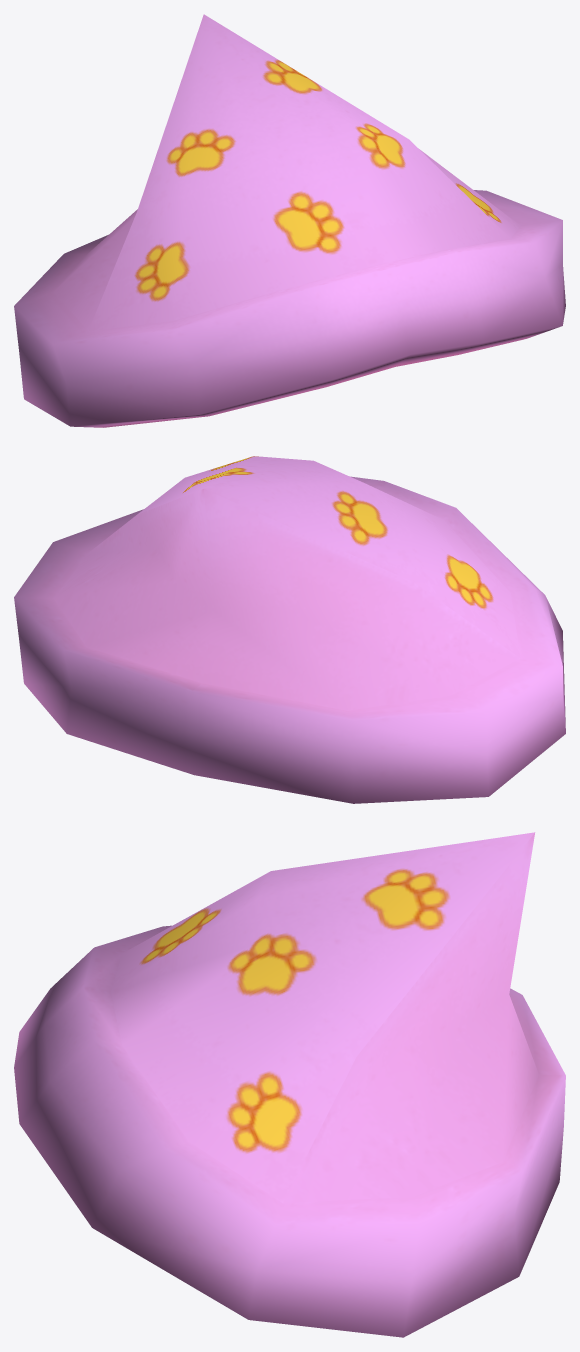
Rendered from animal_pr_hat_b.fbx.
3 views of the same model, one above another, from view 1: azimuth 30°, elevation 25°; view 2: azimuth 150°, elevation 25°; view 3: azimuth 270°, elevation 25° (orthographic). The views are drawn at different scales.
Parts seen in each view (by area): view 1: animal_pr_hat_b_mesh; view 2: animal_pr_hat_b_mesh; view 3: animal_pr_hat_b_mesh.
Part boxes in pixels (x1,y1,x2,y2): animal_pr_hat_b_mesh: (14, 14, 565, 427); animal_pr_hat_b_mesh: (14, 456, 565, 803); animal_pr_hat_b_mesh: (14, 832, 565, 1337).
Bounding box in the file's own units: 37.14 × 20.72 × 27.78.
